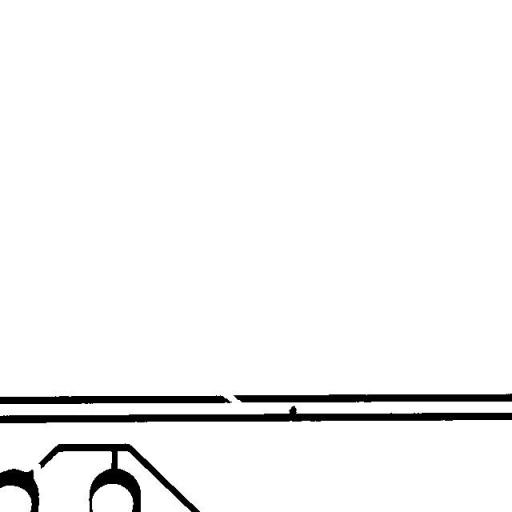open: (213, 384, 250, 414), (18, 456, 50, 488)
short: (102, 439, 125, 483)
spur: (281, 398, 305, 423)
